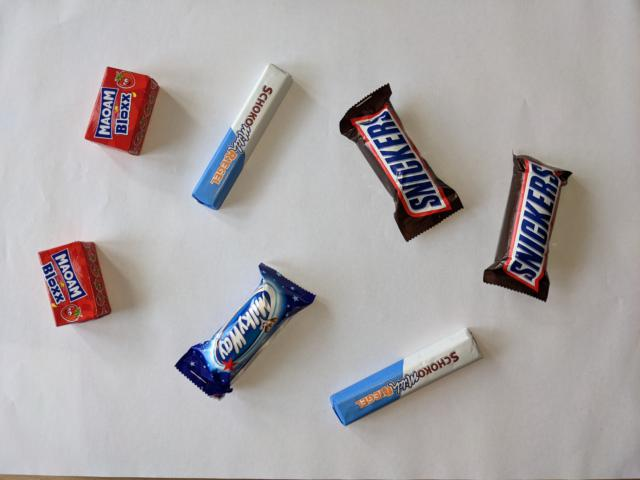MAOAM: (80, 62, 163, 159), (33, 238, 115, 329)
MilkyWay: (170, 261, 320, 404)
Schokoriegel: (325, 322, 486, 430), (188, 60, 296, 213)
Snickers: (335, 79, 466, 245), (480, 148, 576, 305)
